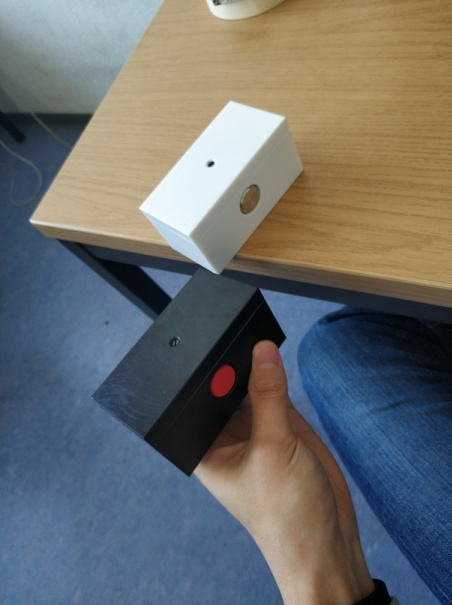black+black+red: (90, 269, 289, 481)
white+white+silver: (139, 100, 305, 277)
